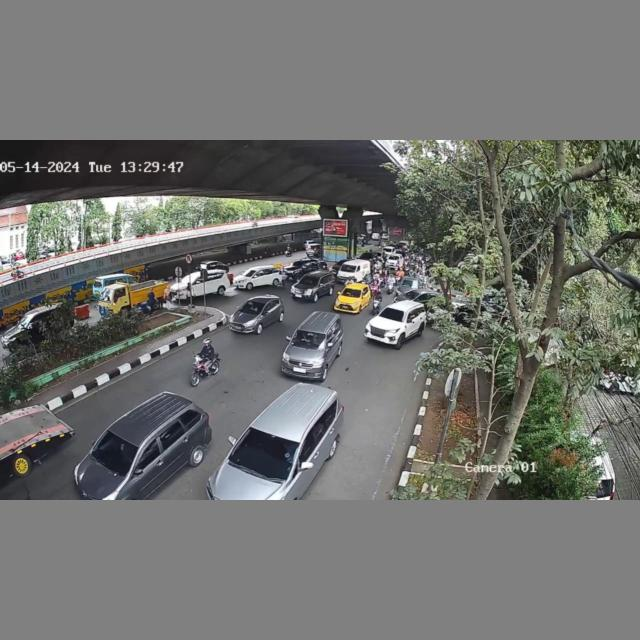windshield: (229, 425, 301, 477), (88, 427, 137, 476), (291, 329, 326, 349), (237, 298, 265, 316), (378, 304, 406, 321), (298, 274, 320, 285), (342, 288, 364, 298)
